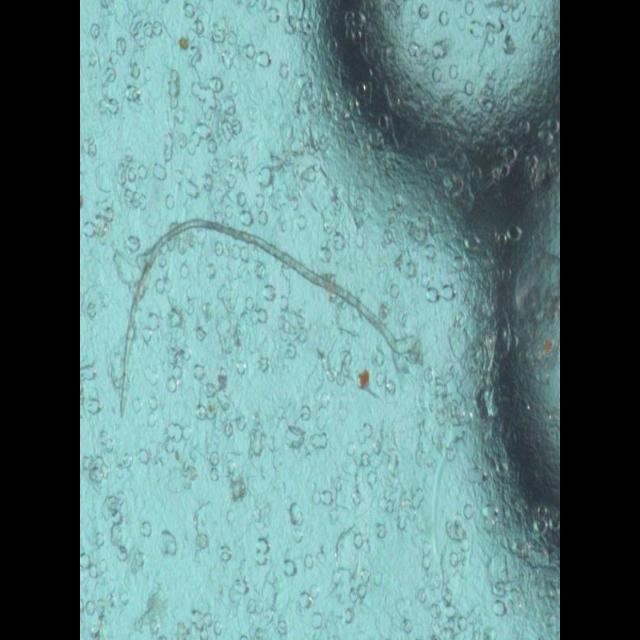Fibre: (81, 2, 558, 640)
